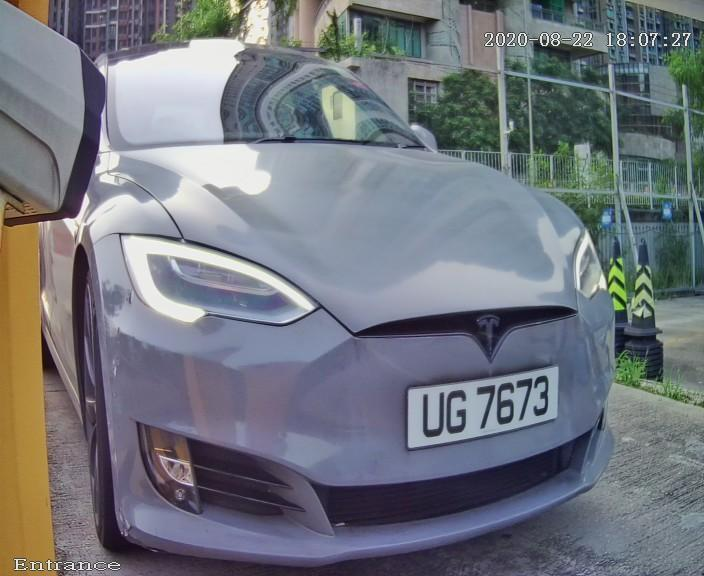License Plate: (363, 341, 585, 467)
